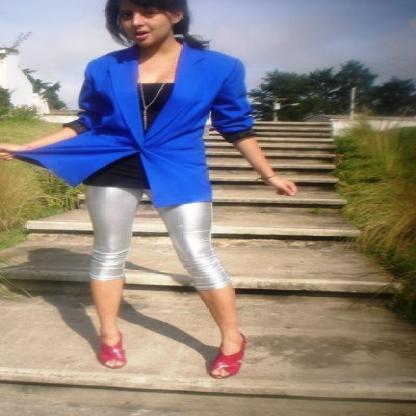jacket: (13, 44, 265, 206)
pants: (75, 183, 232, 290)
shirt: (87, 83, 174, 189)
shoe: (95, 342, 242, 378)
